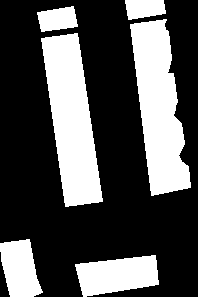parkingspot: (130, 19, 190, 195), (41, 33, 102, 206), (75, 255, 158, 296), (0, 239, 42, 297), (37, 6, 77, 31), (125, 0, 165, 19)
